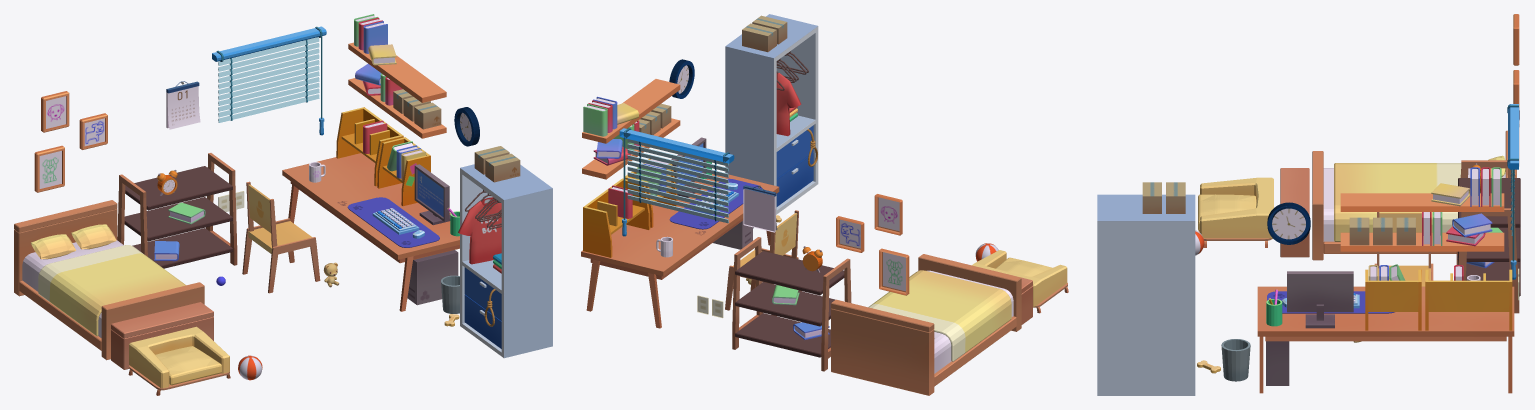
File: stage_1_a.fbx
The picture shows the model from 3 angles, left to right: view 1: azimuth 30°, elevation 25°; view 2: azimuth 150°, elevation 25°; view 3: azimuth 270°, elevation 25°; orthographic projection. The views are drawn at different scales.
Visible parts, largest first — view 1: wall_ornaments, desk, closet, bed, shelf_bedroom, dog_cushion, chair, bed_block, trashcan, bigball; view 2: wall_ornaments, bed, closet, desk, shelf_bedroom, dog_cushion, chair, bed_block; view 3: closet, desk, wall_ornaments, bed, dog_cushion, shelf_bedroom, bed_block, trashcan, chair.
Part boxes in pixels (x1,y1,x2,y2): wall_ornaments: (34, 14, 479, 211); desk: (282, 107, 459, 311); closet: (458, 146, 552, 358); bed: (14, 200, 204, 360); shelf_bedroom: (117, 153, 237, 268); dog_cushion: (128, 326, 230, 395); chair: (242, 181, 320, 293); bed_block: (111, 302, 213, 369); trashcan: (441, 275, 459, 313); bigball: (238, 355, 262, 380); wall_ornaments: (582, 59, 909, 318); bed: (831, 254, 1021, 395); closet: (725, 14, 818, 214); desk: (581, 137, 779, 328); shelf_bedroom: (732, 237, 851, 371); dog_cushion: (972, 250, 1068, 313); chair: (725, 210, 801, 316); bed_block: (944, 258, 1032, 324); closet: (1097, 182, 1195, 395); desk: (1257, 264, 1514, 393); wall_ornaments: (1267, 14, 1519, 300); bed: (1312, 130, 1516, 260); dog_cushion: (1198, 177, 1273, 247); shelf_bedroom: (1456, 160, 1520, 313); bed_block: (1280, 168, 1309, 257); trashcan: (1221, 339, 1250, 381); chair: (1374, 212, 1433, 286).
Bounding box in the file's own units: 581 × 310 × 543.
